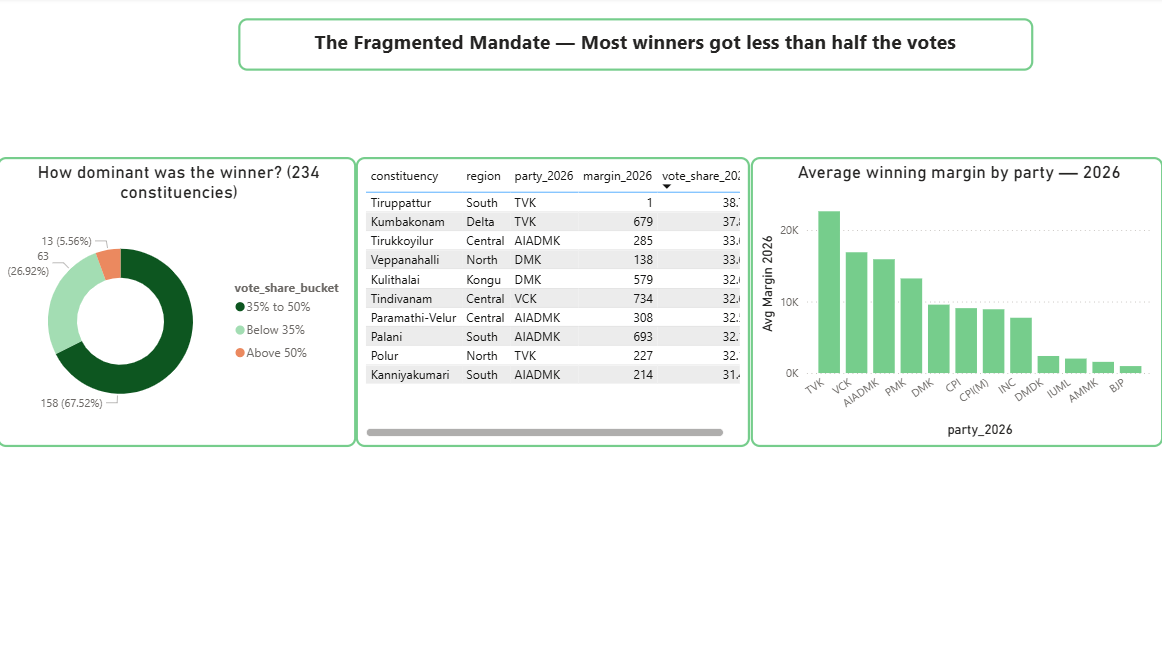

This screenshot's page, from the dashboard's own definition file:
{"tool":"powerbi","page":{"name":"Fragmented Mandate","canvas":[1280,720],"ordinal":3},"visuals":[{"type":"donutChart","title":"How dominant was the winner? (234 constituencies)","fields":{"Category":["tn_master.vote_share_bucket"],"Y":["Count(tn_master.ac_number)"]},"box":[0,175.7,394.3,318.6],"z":0},{"type":"clusteredColumnChart","title":"Average winning margin by party — 2026","fields":{"Category":["tn_master.party_2026"],"Y":["tn_master.Avg Margin 2026"]},"box":[827.1,175.7,452.9,318.6],"z":1000},{"type":"tableEx","fields":{"Values":["tn_master.constituency","tn_master.region","tn_master.party_2026","tn_master.margin_2026","tn_master.vote_share_2026"]},"box":[394.3,175.7,432.9,318.6],"z":2000},{"type":"textbox","box":[264.8,23.3,872.7,57.6],"z":3000}]}

Visuals, with their boxes in screenshot pixels (x1, y1, x2, y2), scaled from the page's 1280x720 canvas onto the 1162x649 screenshot:
"How dominant was the winner? (234 constituencies)" donutChart: x1=0, y1=158, x2=358, y2=446
"Average winning margin by party — 2026" clusteredColumnChart: x1=751, y1=158, x2=1161, y2=446
tableEx - tn_master.constituency x tn_master.region: x1=358, y1=158, x2=751, y2=446
textbox: x1=240, y1=21, x2=1033, y2=73
